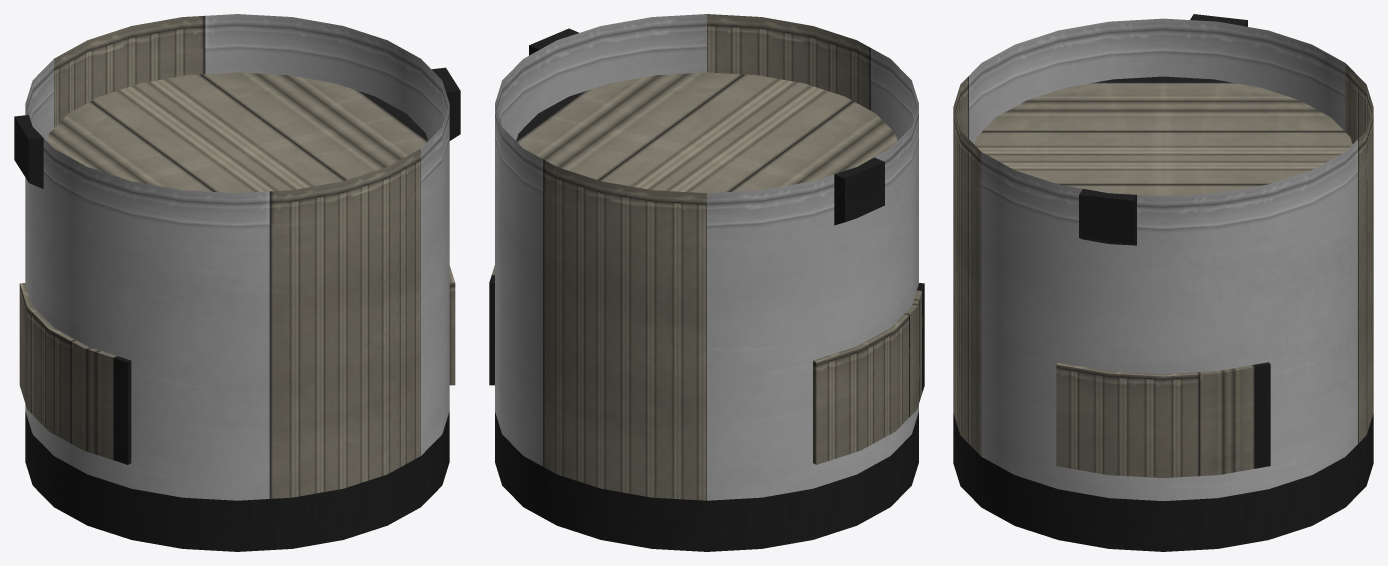
Rendered from upper engine mount.obj.
3 views of the same model, side by side, from view 1: azimuth 30°, elevation 25°; view 2: azimuth 150°, elevation 25°; view 3: azimuth 270°, elevation 25° (orthographic).
Parts seen in each view (by area): view 1: 3, 3_fairing; view 2: 3, 3_fairing; view 3: 3, 3_fairing.
Part boxes in pixels (box(x1,y1,x2,y2)): 3: box(14, 14, 460, 500); 3_fairing: box(25, 411, 449, 551); 3: box(489, 14, 924, 500); 3_fairing: box(495, 412, 918, 551); 3: box(953, 14, 1373, 501); 3_fairing: box(953, 413, 1373, 551).
Bounding box in the file's own units: 1.97 × 1.75 × 1.88.
